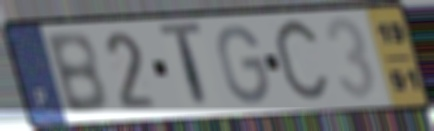2: (103, 29, 159, 112)
3: (324, 13, 382, 105)
B: (42, 28, 111, 117)
C: (271, 14, 333, 110)
G: (216, 22, 273, 107)
T: (155, 19, 212, 114)
